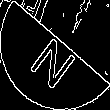N_NE: (26, 23, 84, 87)
